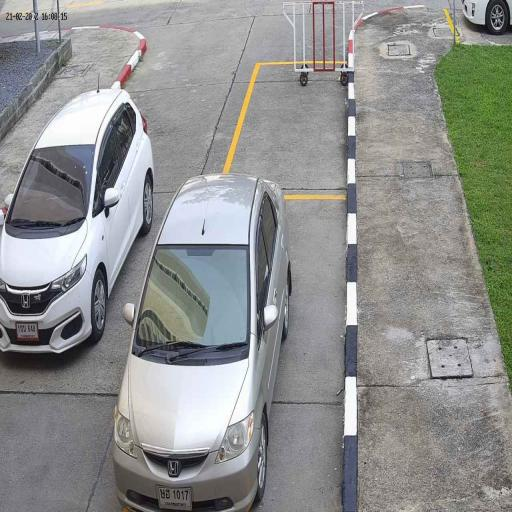car: (114, 172, 294, 512), (0, 84, 154, 353)
